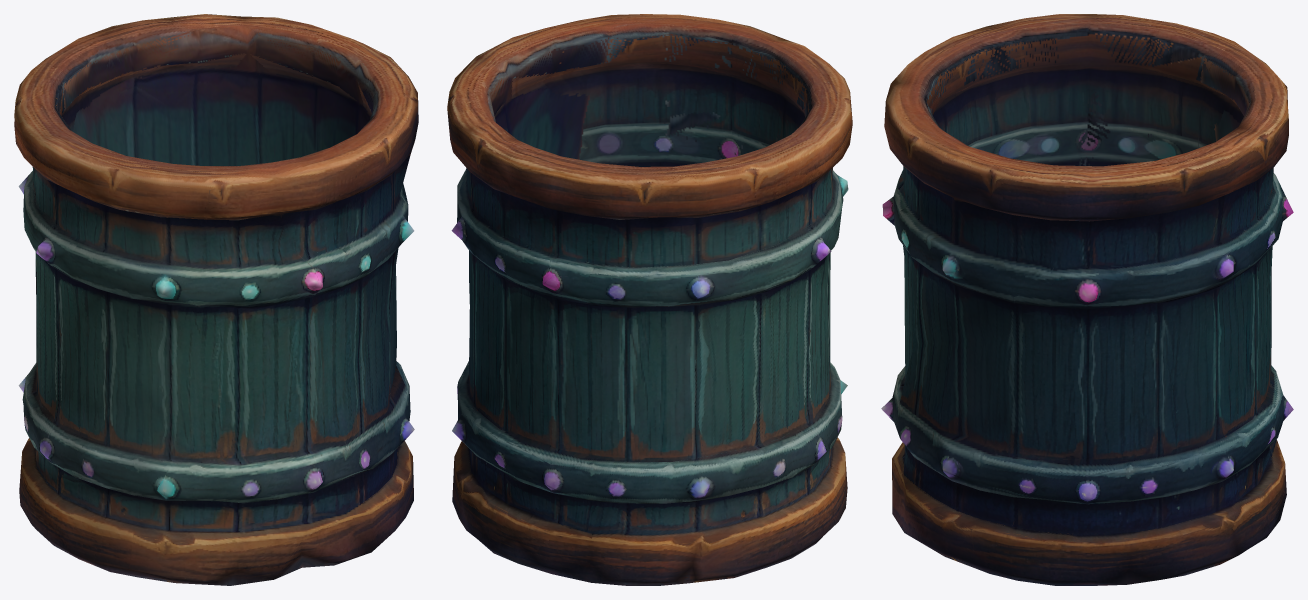
Rendered from Wooden_Gem_Bucket_1650.fbx.
3 views of the same model, side by side, from view 1: azimuth 30°, elevation 25°; view 2: azimuth 150°, elevation 25°; view 3: azimuth 270°, elevation 25° (orthographic).
Parts seen in each view (by area): view 1: Wooden_Gem_Bucket_1650; view 2: Wooden_Gem_Bucket_1650; view 3: Wooden_Gem_Bucket_1650.
Part boxes in pixels (x1,y1,x2,y2): Wooden_Gem_Bucket_1650: (14, 14, 418, 585); Wooden_Gem_Bucket_1650: (447, 14, 852, 585); Wooden_Gem_Bucket_1650: (881, 14, 1293, 585).
Size of the model in its own units: 0.4572 by 0.5 by 0.4556.
1 material, 1 textured.
